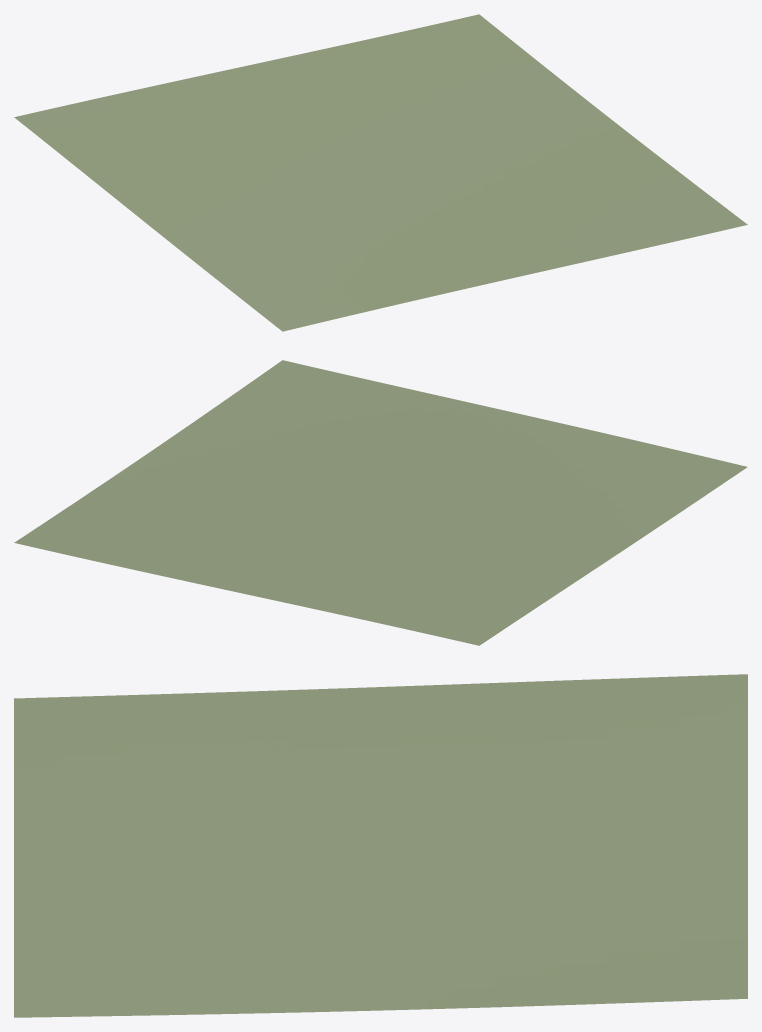
Rendered from expanse-3-3.glb.
The picture shows the model from 3 angles, top to bottom: view 1: azimuth 30°, elevation 25°; view 2: azimuth 150°, elevation 25°; view 3: azimuth 270°, elevation 25°; orthographic projection. The views are drawn at different scales.
Parts seen in each view (by area): view 1: expanse-3-3; view 2: expanse-3-3; view 3: expanse-3-3.
Boxes of the visible parts, x1,y1,x2,y2 form: expanse-3-3: (14,14,747,331); expanse-3-3: (14,360,747,645); expanse-3-3: (14,674,747,1017).
Size of the model in its own units: 256 by 12.85 by 256.
